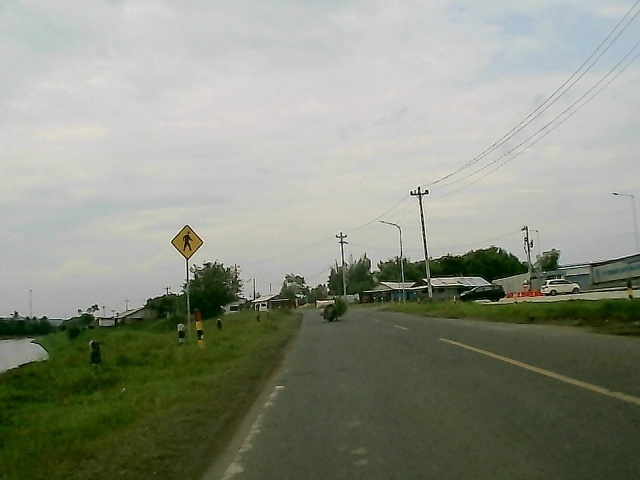Peringatan orang menyeberang: (168, 224, 206, 259)
